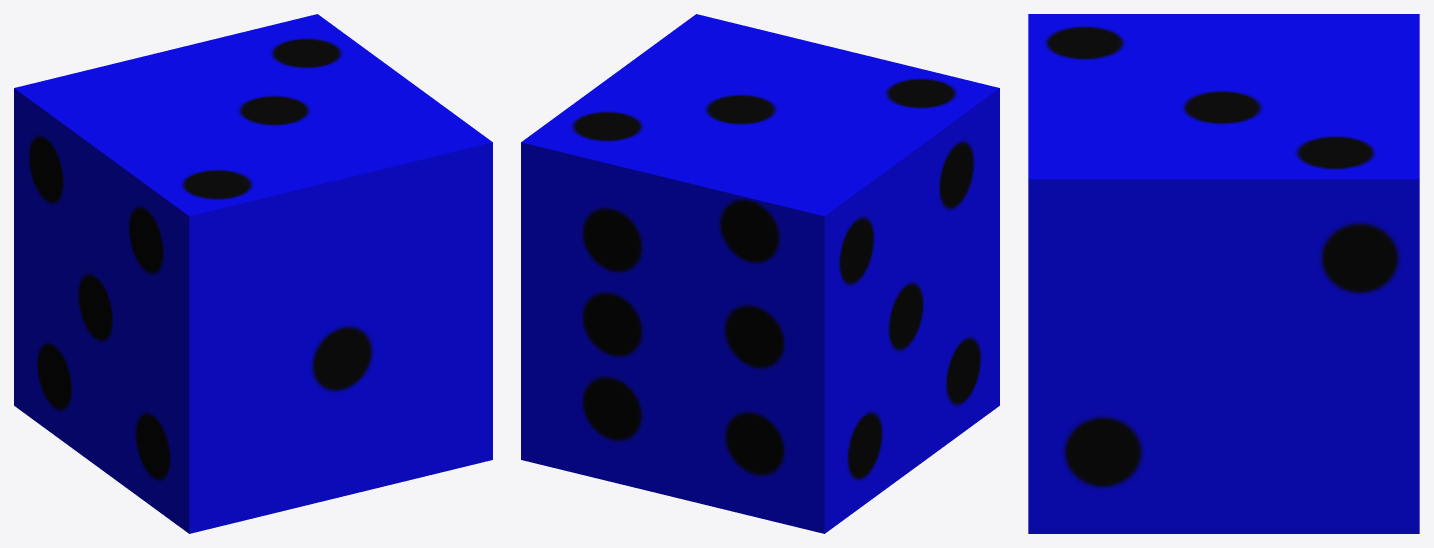
Rendered from saikoro.fbx.
3 views of the same model, side by side, from view 1: azimuth 30°, elevation 25°; view 2: azimuth 150°, elevation 25°; view 3: azimuth 270°, elevation 25° (orthographic). The views are drawn at different scales.
Parts seen in each view (by area): view 1: pCube4; view 2: pCube4; view 3: pCube4.
Boxes of the visible parts, left/top/right/bottom form: pCube4: left=14, top=14, right=492, bottom=533; pCube4: left=521, top=14, right=999, bottom=533; pCube4: left=1028, top=14, right=1419, bottom=533.
Size of the model in its own units: 1 by 1 by 1.
